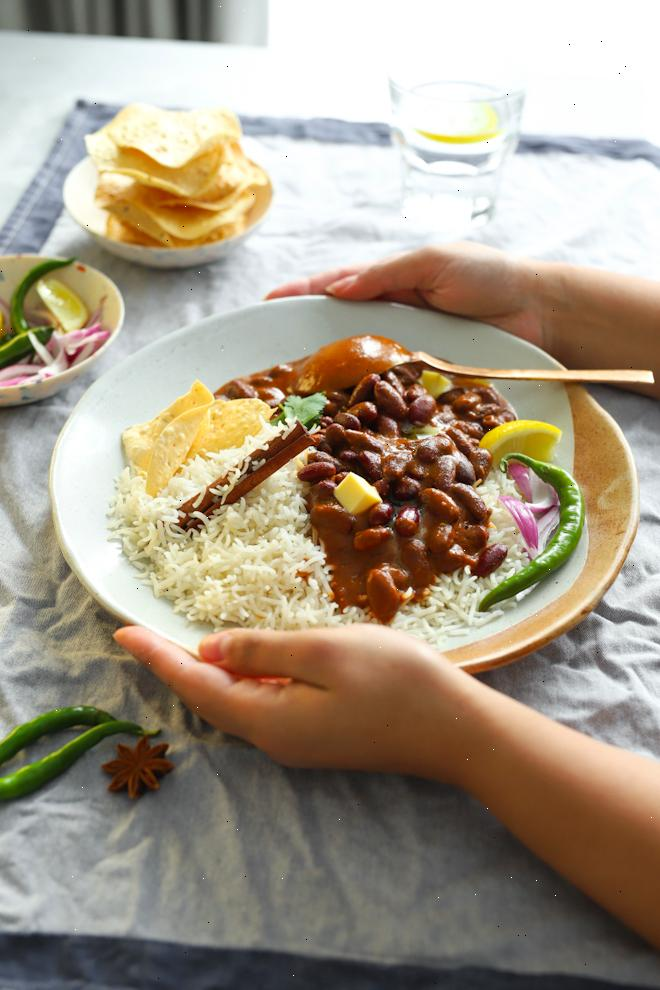rajma: (342, 392, 488, 590)
rice: (117, 455, 312, 632)
